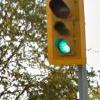Traffic light: (36, 0, 92, 72)
